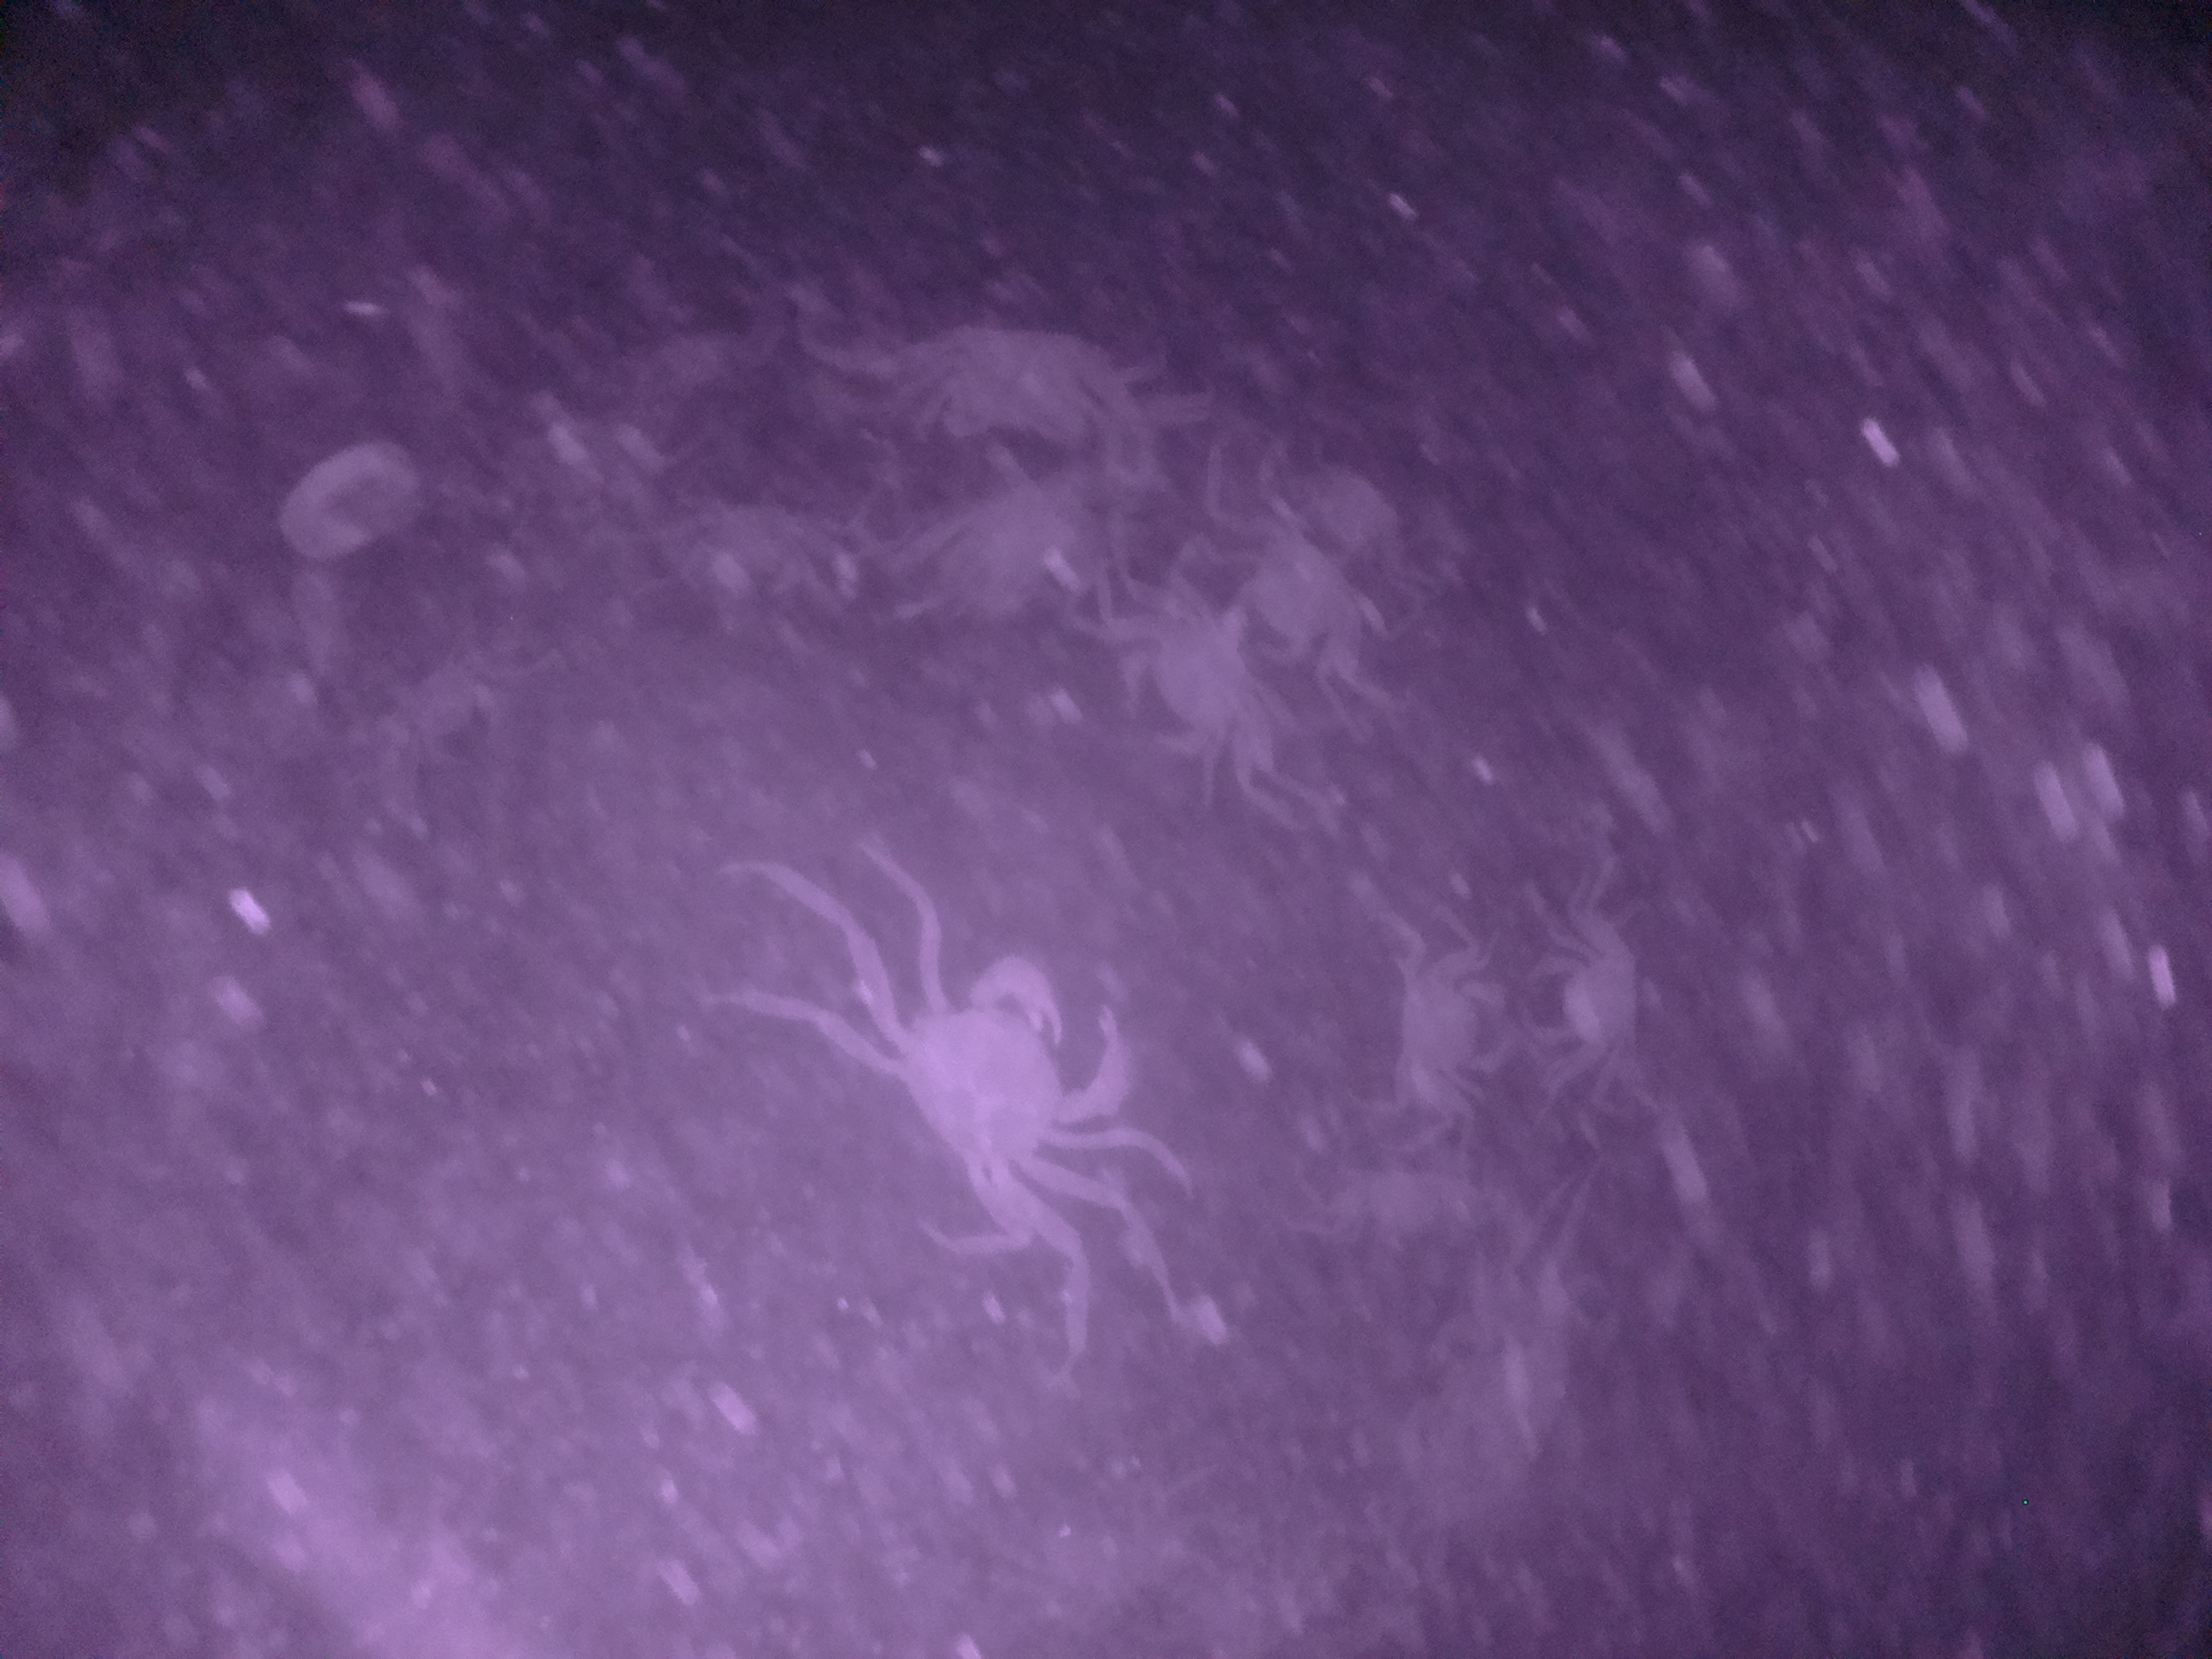Crab: (826, 939, 1158, 1225), (892, 312, 1148, 462), (1115, 580, 1280, 796), (1517, 880, 1663, 1093), (1395, 941, 1508, 1134)
